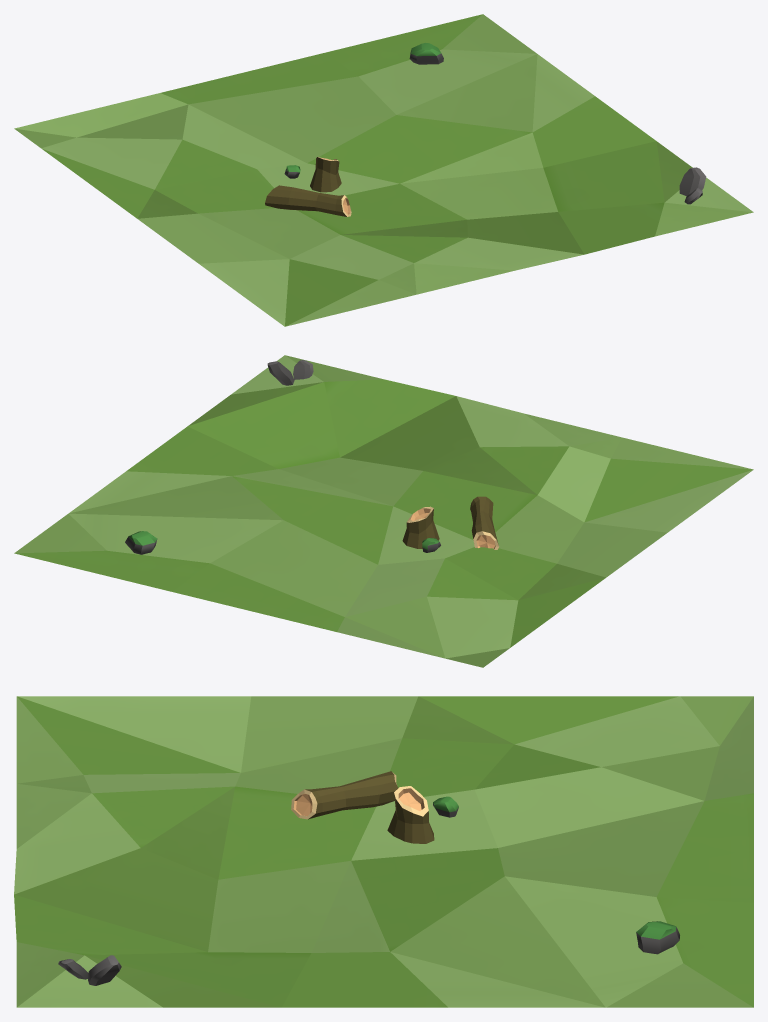
The model's file is Tiles_01.fbx.
3 views of the same model, one above another, from view 1: azimuth 30°, elevation 25°; view 2: azimuth 150°, elevation 25°; view 3: azimuth 270°, elevation 25° (orthographic). The views are drawn at different scales.
Parts seen in each view (by area): view 1: Tiles_01, Tree_02, Tree_01, polySurface23, polySurface16; view 2: Tiles_01, Tree_02, Tree_01, polySurface23; view 3: Tiles_01, Tree_02, Tree_01, polySurface23, polySurface16.
Part boxes in pixels (left/top/right/bottom): Tiles_01: left=14, top=14, right=753, bottom=326; Tree_02: left=265, top=185, right=351, bottom=216; Tree_01: left=310, top=157, right=341, bottom=192; polySurface23: left=409, top=43, right=443, bottom=64; polySurface16: left=679, top=167, right=706, bottom=195; Tiles_01: left=14, top=355, right=753, bottom=667; Tree_02: left=470, top=496, right=499, bottom=549; Tree_01: left=402, top=506, right=439, bottom=548; polySurface23: left=125, top=531, right=157, bottom=554; Tiles_01: left=14, top=696, right=753, bottom=1007; Tree_02: left=291, top=771, right=398, bottom=819; Tree_01: left=387, top=786, right=434, bottom=843; polySurface23: left=636, top=921, right=679, bottom=954; polySurface16: left=88, top=955, right=121, bottom=985.
Size of the model in its own units: 722 by 66.65 by 725.
